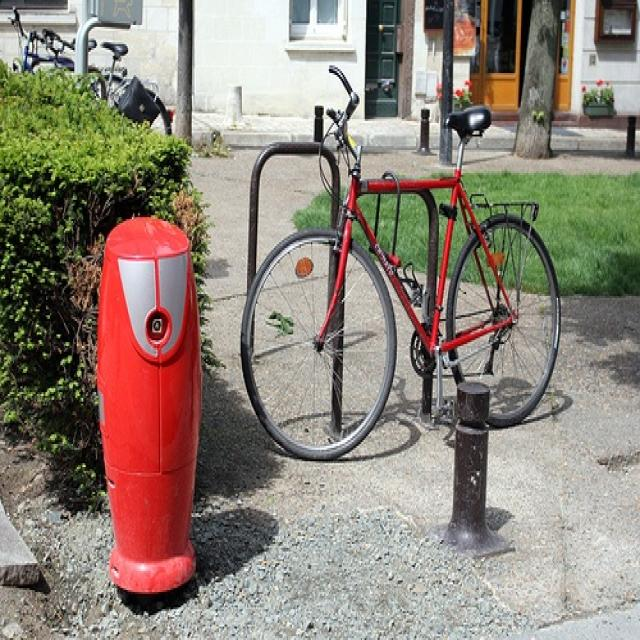bicycle: (237, 60, 560, 458), (92, 39, 172, 132)
fire_hydrant: (94, 213, 204, 594)
